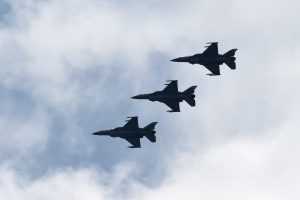flight: (169, 42, 238, 76), (129, 79, 198, 113), (90, 116, 158, 149)
